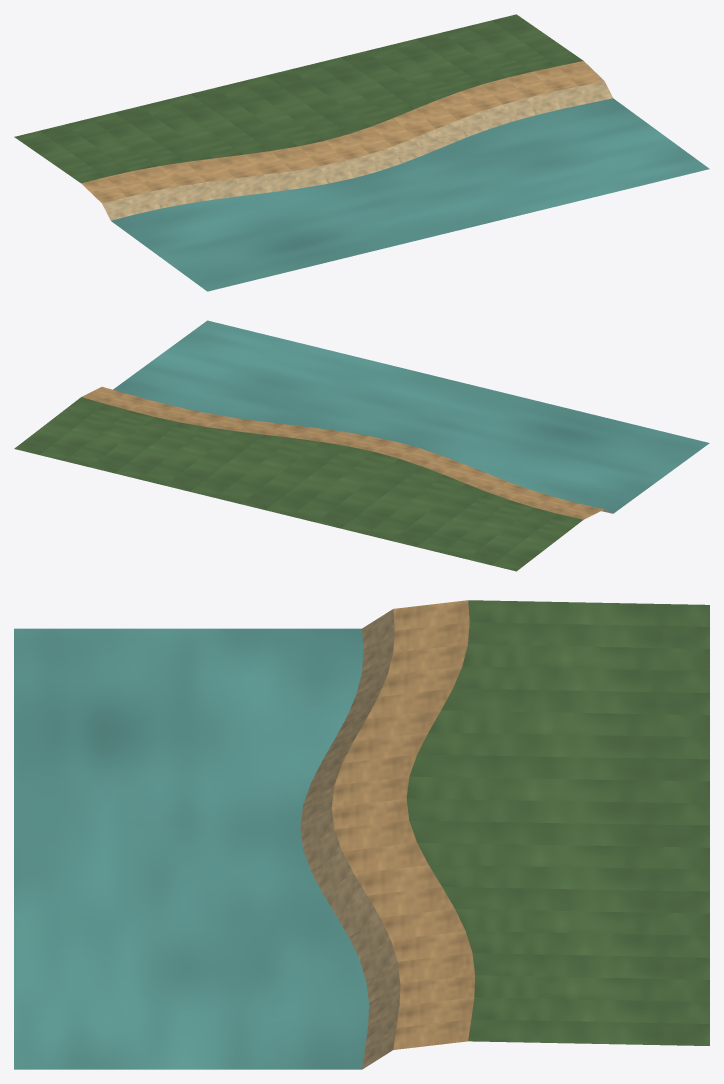
Rendered from lake_edge_set_03.fbx.
The picture shows the model from 3 angles, top to bottom: view 1: azimuth 30°, elevation 25°; view 2: azimuth 150°, elevation 25°; view 3: azimuth 270°, elevation 25°; orthographic projection. The views are drawn at different scales.
Parts seen in each view (by area): view 1: lake_edge_set_03; view 2: lake_edge_set_03; view 3: lake_edge_set_03.
Part boxes in pixels (x1=…): lake_edge_set_03: x1=14, y1=14, x2=709, y2=291; lake_edge_set_03: x1=14, y1=320, x2=709, y2=571; lake_edge_set_03: x1=14, y1=600, x2=709, y2=1069.
Size of the model in its own units: 1200 by 36 by 800.
2 materials, 2 textured.
